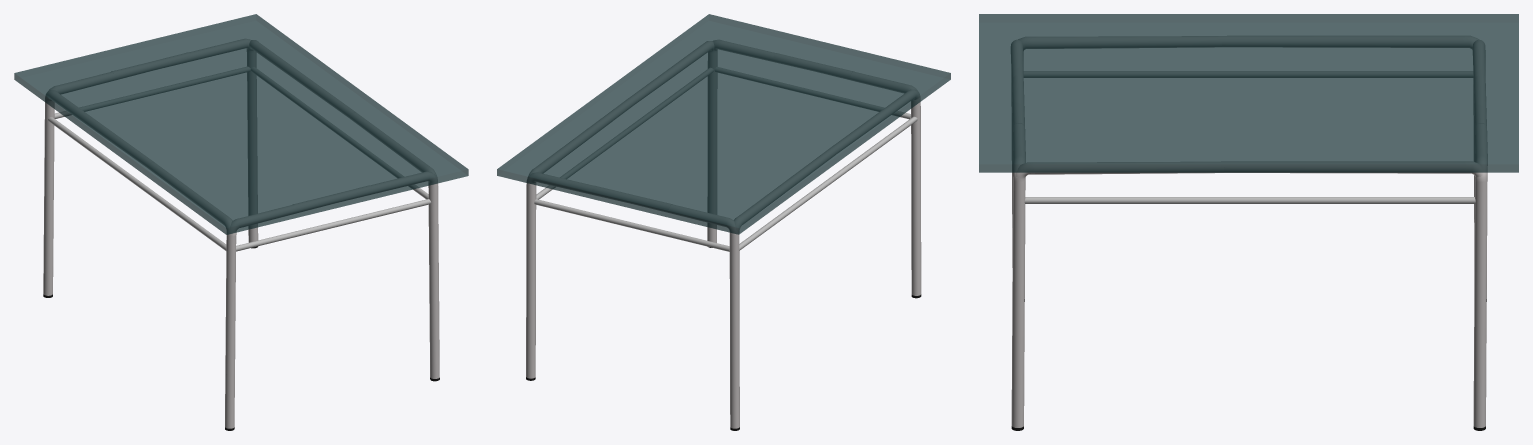
Rendered from table.glb.
3 views of the same model, side by side, from view 1: azimuth 30°, elevation 25°; view 2: azimuth 150°, elevation 25°; view 3: azimuth 270°, elevation 25° (orthographic). The views are drawn at different scales.
Parts seen in each view (by area): view 1: pCube2, polySurface20, polySurface22, polySurface24, polySurface23, pCylinder21, pCylinder20, pCylinder22, pCylinder19; view 2: pCube2, polySurface22, polySurface20, polySurface24, polySurface23, pCylinder21, pCylinder19, pCylinder22, pCylinder20; view 3: pCube2, polySurface23, polySurface24, polySurface22, polySurface20, pCylinder22, pCylinder21.
Part boxes in pixels (left/top/right/bottom): pCube2: left=14, top=14, right=468, bottom=234; polySurface20: left=225, top=172, right=439, bottom=430; polySurface22: left=43, top=39, right=258, bottom=297; polySurface24: left=45, top=90, right=236, bottom=236; polySurface23: left=247, top=40, right=438, bottom=184; pCylinder21: left=48, top=117, right=226, bottom=250; pCylinder20: left=236, top=199, right=431, bottom=251; pCylinder22: left=251, top=67, right=428, bottom=199; pCylinder19: left=54, top=66, right=250, bottom=118; pCube2: left=497, top=14, right=950, bottom=234; polySurface22: left=526, top=172, right=739, bottom=430; polySurface20: left=707, top=40, right=921, bottom=298; polySurface24: left=734, top=90, right=919, bottom=232; polySurface23: left=529, top=41, right=715, bottom=186; pCylinder21: left=739, top=116, right=917, bottom=250; pCylinder19: left=534, top=199, right=729, bottom=251; pCylinder22: left=536, top=68, right=713, bottom=199; pCylinder20: left=715, top=67, right=910, bottom=119; pCube2: left=979, top=14, right=1518, bottom=172; polySurface23: left=1015, top=161, right=1483, bottom=182; polySurface24: left=1018, top=36, right=1478, bottom=50; polySurface22: left=1473, top=40, right=1487, bottom=430; polySurface20: left=1011, top=40, right=1025, bottom=430; pCylinder22: left=1024, top=197, right=1475, bottom=203; pCylinder21: left=1024, top=71, right=1473, bottom=77.
Size of the model in its own units: 0.0971 by 0.0831 by 0.1475.
